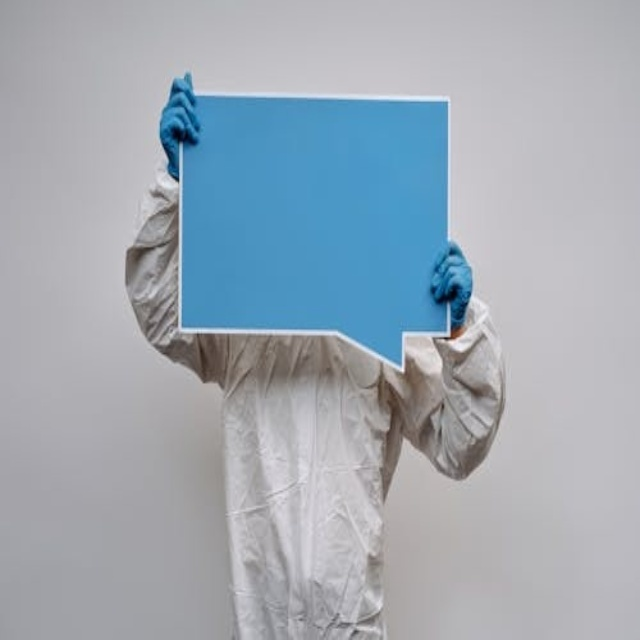Guantes: (160, 74, 200, 182), (430, 239, 473, 329)
